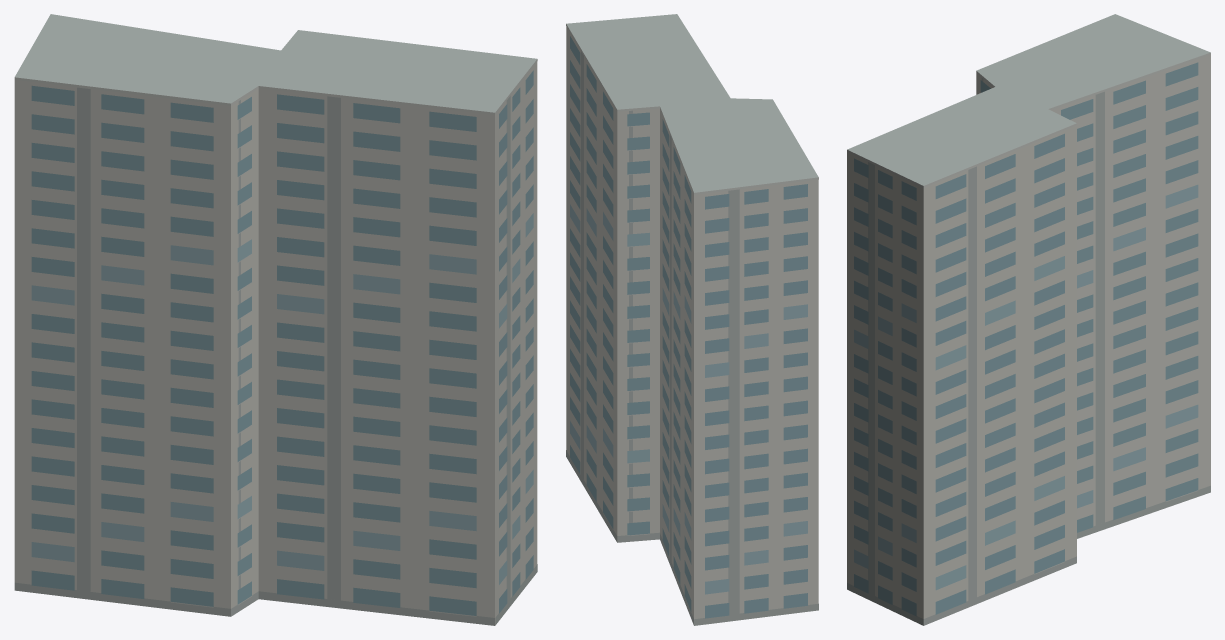
Rendered from residential-8537c8eb-0caf-4b3c-847c-0c280a856ba3.glb.
The picture shows the model from 3 angles, left to right: view 1: azimuth 30°, elevation 25°; view 2: azimuth 150°, elevation 25°; view 3: azimuth 270°, elevation 25°; orthographic projection. The views are drawn at different scales.
Parts seen in each view (by area): view 1: residential-8537c8eb-0caf-4b3c-847c-0c280a856ba3.tmp; view 2: residential-8537c8eb-0caf-4b3c-847c-0c280a856ba3.tmp; view 3: residential-8537c8eb-0caf-4b3c-847c-0c280a856ba3.tmp.
Part boxes in pixels (bbox=[...]): residential-8537c8eb-0caf-4b3c-847c-0c280a856ba3.tmp: bbox=[14, 14, 537, 625]; residential-8537c8eb-0caf-4b3c-847c-0c280a856ba3.tmp: bbox=[566, 14, 818, 625]; residential-8537c8eb-0caf-4b3c-847c-0c280a856ba3.tmp: bbox=[847, 14, 1210, 625].
Bounding box in the file's own units: 40.25 × 48 × 35.99.
